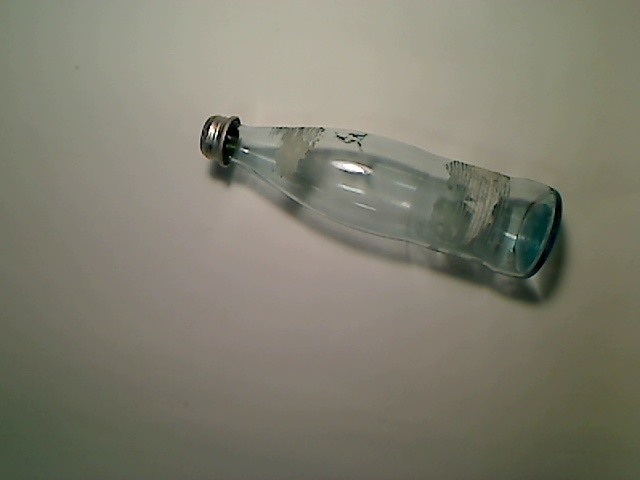bottle: (198, 113, 563, 283)
